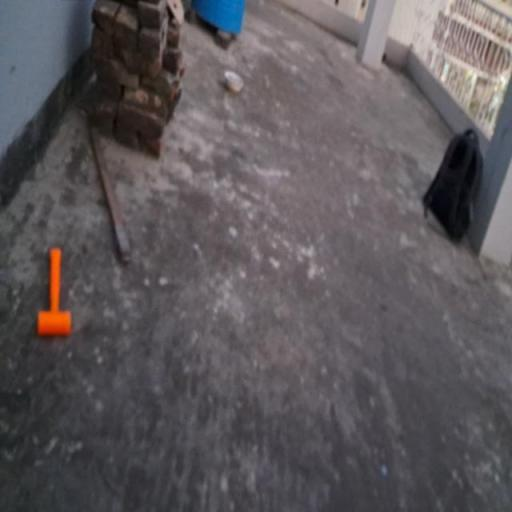mallet: (36, 248, 72, 336)
